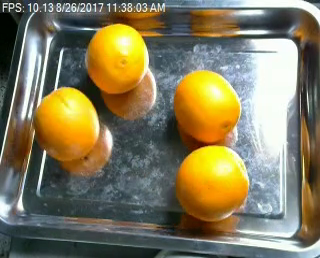Orange: (177, 143, 251, 220), (175, 69, 241, 143), (34, 85, 99, 160), (85, 23, 150, 93)
